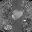people: (11, 9, 24, 20)
